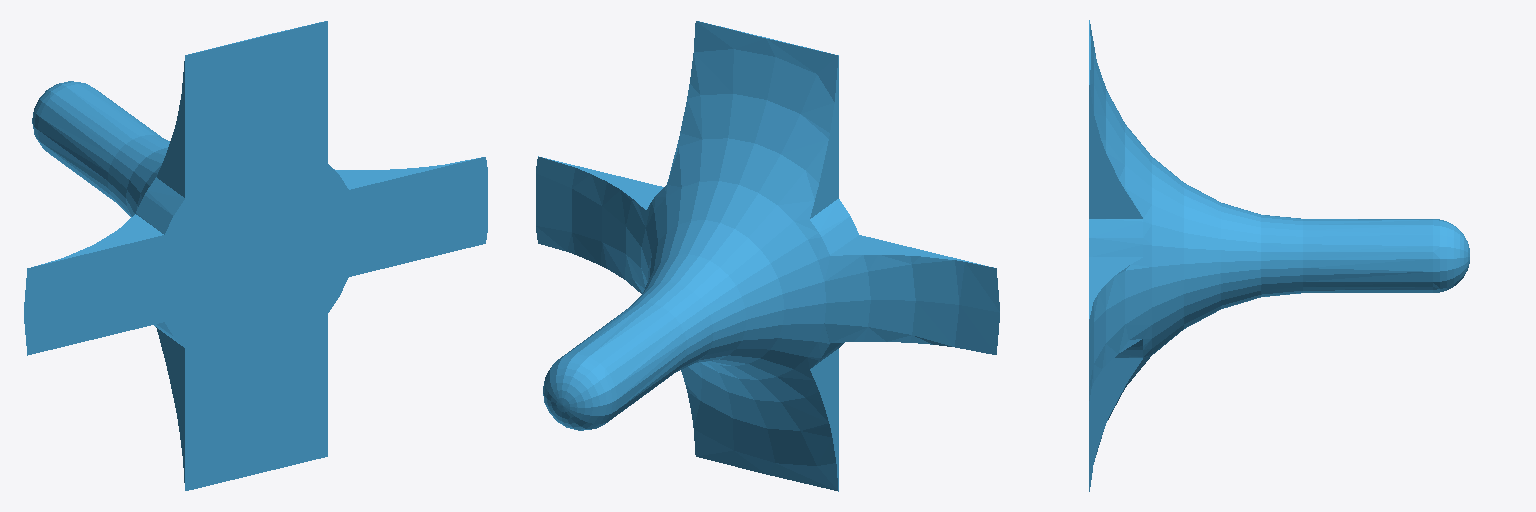
URDF robot description (indenter):
<robot name="indenter">
	<link name="world">
        </link>

        <joint name="world_to_indenter" type="prismatic">
                <parent link="world"/>
                <child link="indenter"/>
                <origin rpy="0.0 0.0 0.0" xyz="0.0 0.0 0.0"/>
                <axis xyz="0 1 0"/>
                <dynamics damping="0.0" friction="0.0"/>
                <limit lower="0.0" upper="0.1" velocity="1e9" effort="1e9"/>
        </joint>

	<link name="indenter">
		<visual>
			<origin rpy="0.0 0.0 0.0" xyz="0.0 0.0 0.0"/>
			<geometry>
				<mesh filename="../../meshes/indenters/sphere_3-5mm.obj"/>
			</geometry>
		</visual>
		<collision>
			<origin rpy="0.0 0.0 0.0" xyz="0.0 0.0 0.0"/>
			<geometry>
				<mesh filename="../../meshes/indenters/sphere_3-5mm.obj"/>
			</geometry>
		</collision>
		<inertial>
			<origin rpy="0.0 0.0 0.0" xyz="0.0 -14.0636e-3 0.0"/>
			<mass value="0.00075752"/>
			<inertia ixx="2.03201e-8" iyy="1.24370e-8" izz="1.90589e-8" ixy="0.0" ixz="-1.96737e-15" iyz="0.0"/>
		</inertial>
	</link>
</robot>

--- What the picture shows (computed from the rendered views, not written in the file) ---
Views: 3 orthographic renders of the robot side by side, from view 1: azimuth 30°, elevation 25°; view 2: azimuth 150°, elevation 25°; view 3: azimuth 270°, elevation 25°.
Robot: indenter — 2 links, 1 joints (1 prismatic); root link world; default pose: every joint at zero.
Visible links, largest first — view 1: indenter; view 2: indenter; view 3: indenter.
Link boxes in pixels (x1,y1,x2,y2): indenter: (24, 21, 487, 490); indenter: (536, 21, 999, 491); indenter: (1089, 20, 1469, 491).
Bounding box of the posed robot: 0.0234 × 0.0179 × 0.021 m (x, y, z).
1 mesh visuals loaded from 1 distinct referenced files (1 OBJ).